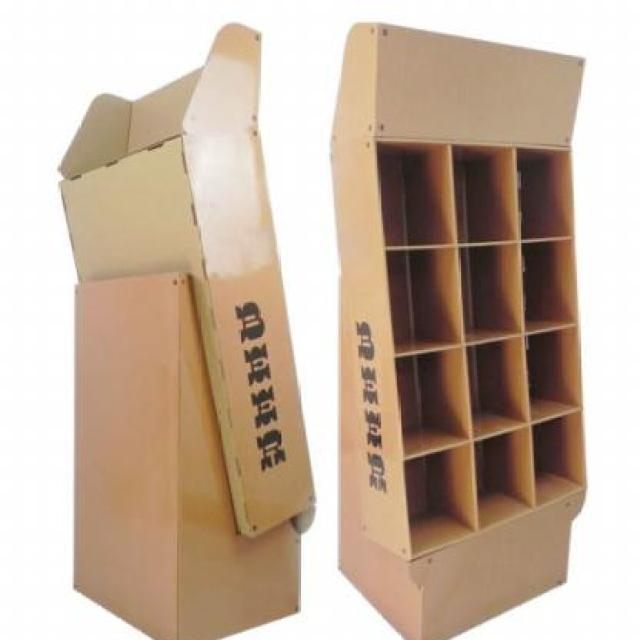box: (329, 0, 600, 640), (55, 16, 311, 640)
